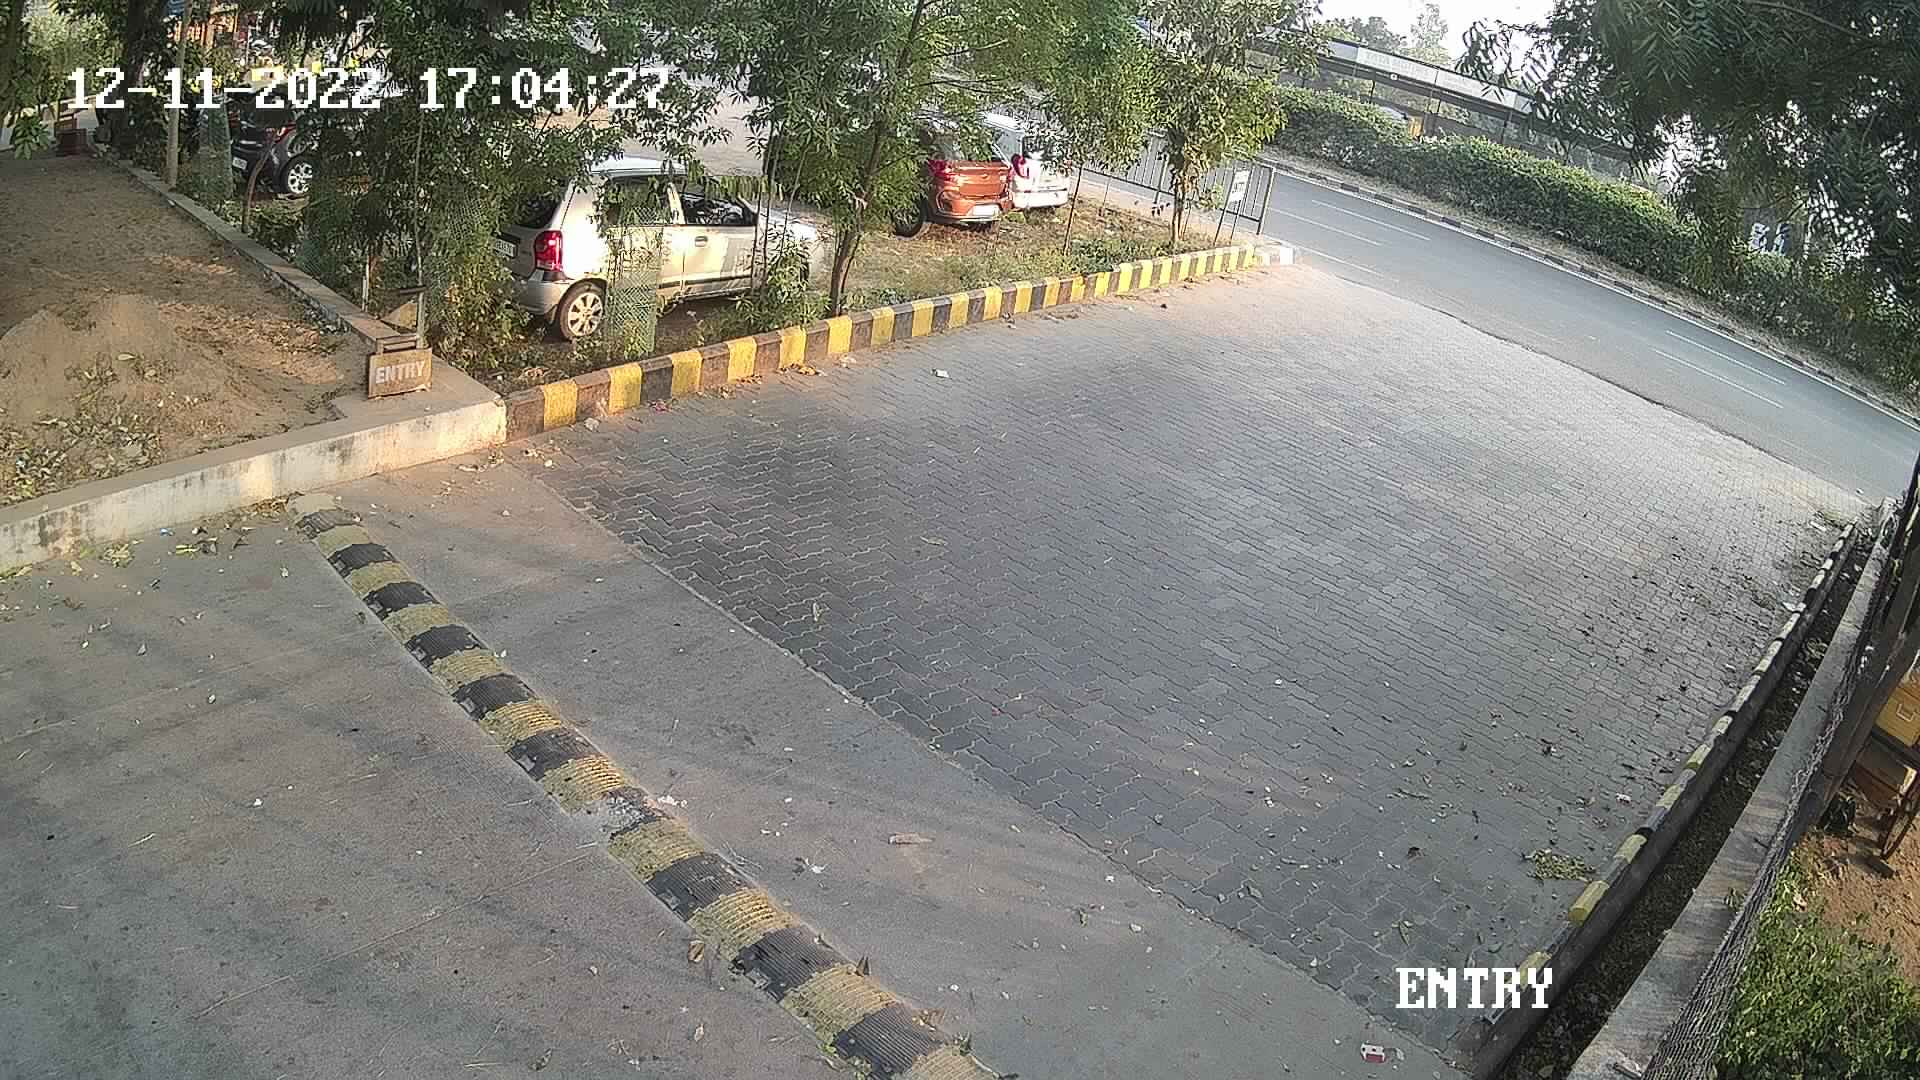Car: (484, 135, 823, 345), (876, 100, 1019, 240), (968, 102, 1085, 219)
